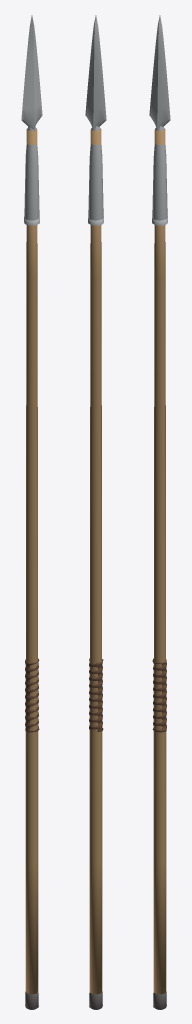
File: boarding-pike.glb
3 views of the same model, side by side, from view 1: azimuth 30°, elevation 25°; view 2: azimuth 150°, elevation 25°; view 3: azimuth 330°, elevation 25° (orthographic).
Parts seen in each view (by area): view 1: boarding-pike; view 2: boarding-pike; view 3: boarding-pike.
Boxes of the visible parts, x1=… form: boarding-pike: x1=21, y1=15, x2=42, y2=1009; boarding-pike: x1=85, y1=15, x2=106, y2=1009; boarding-pike: x1=149, y1=15, x2=170, y2=1009.
Bounding box in the file's own units: 0.1439 × 6.46 × 0.0991.
